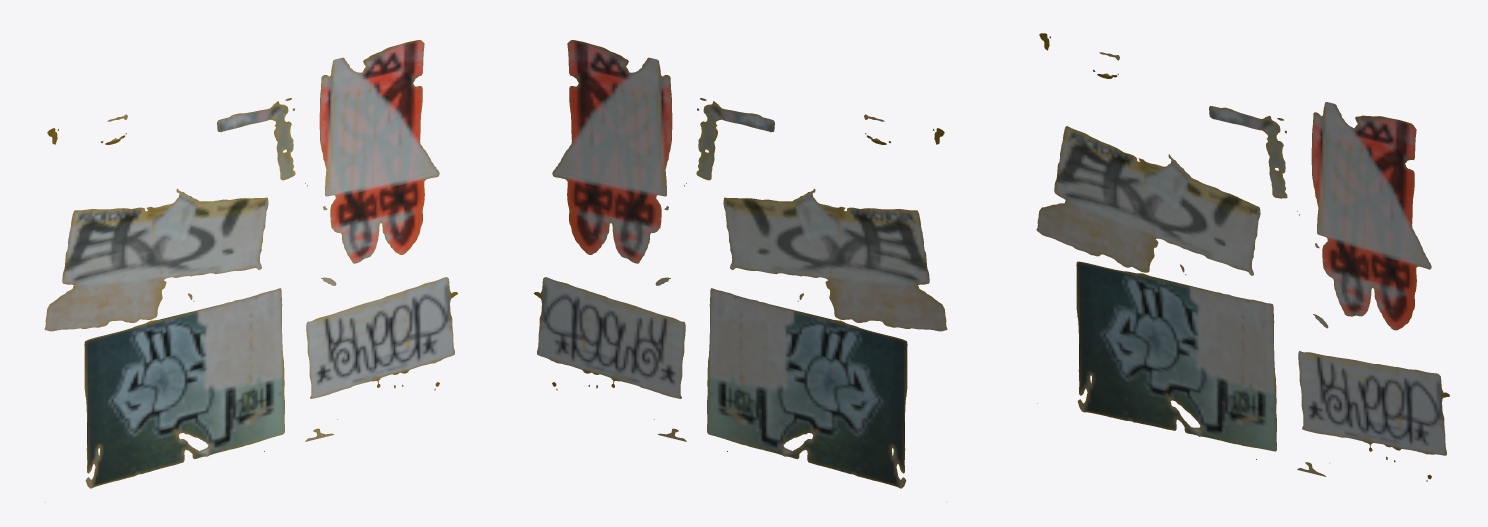
Rendered from store_poster_5.fbx.
3 views of the same model, side by side, from view 1: azimuth 30°, elevation 25°; view 2: azimuth 150°, elevation 25°; view 3: azimuth 330°, elevation 25° (orthographic).
Parts seen in each view (by area): view 1: store_poster_5; view 2: store_poster_5; view 3: store_poster_5.
Boxes of the visible parts, left/top/right/bottom form: store_poster_5: left=44, top=40, right=457, bottom=488; store_poster_5: left=534, top=40, right=947, bottom=488; store_poster_5: left=1036, top=33, right=1449, bottom=481.
Bounding box in the file's own units: 45.08 × 35.45 × 9.52e-06.
Materials: 1 (1 with a texture image).
